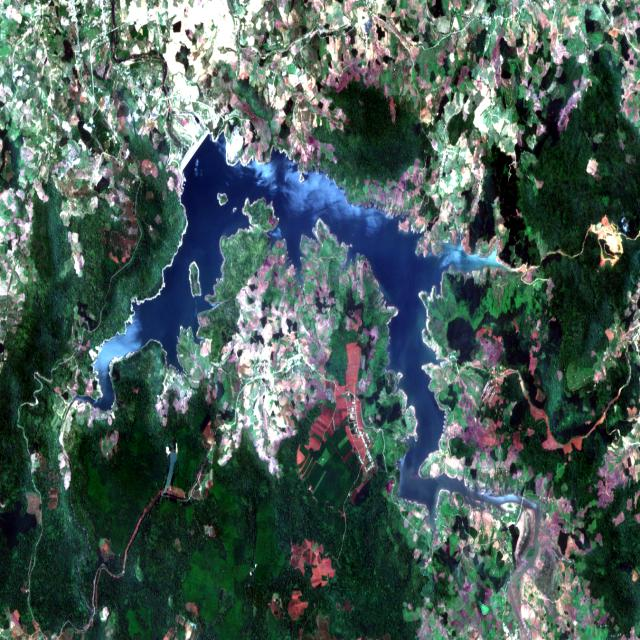bard_land: (188, 261, 202, 297), (217, 193, 228, 206)
river: (63, 133, 541, 628)
